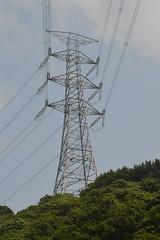power_tower: (40, 24, 109, 203)
